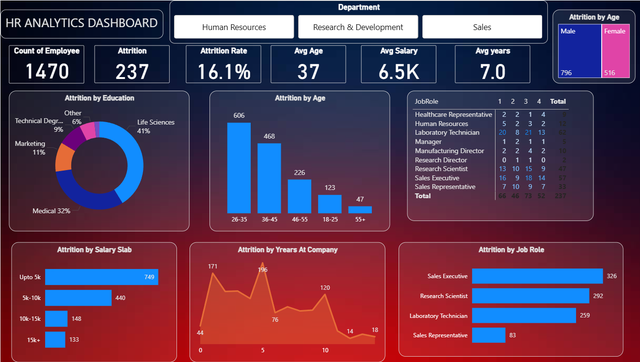

Layout of this report page (visuals, bound fields, positions):
{"tool":"powerbi","page":{"name":"Page 1","canvas":[1280,720],"ordinal":1},"visuals":[{"type":"card","title":"Count of Employee","fields":{"Values":["CountNonNull(HR_Analytics.EmpID)"]},"box":[16.5,89.2,149.6,75.5],"z":0},{"type":"card","title":"Attrition","fields":{"Values":["Sum(HR_Analytics.AttritionCount)"]},"box":[186.6,89.2,149.6,75.5],"z":1},{"type":"card","title":"Attrition Rate","fields":{"Values":["HR_Analytics.AttritionRate"]},"box":[369.1,89.2,149.6,75.5],"z":2},{"type":"card","title":"Avg Age","fields":{"Values":["Avg(HR_Analytics.Age)"]},"box":[537.9,89.2,149.6,75.5],"z":3},{"type":"card","title":"Avg Salary","fields":{"Values":["Avg(HR_Analytics.MonthlyIncome)"]},"box":[717.7,89.2,149.6,75.5],"z":4},{"type":"card","title":"Avg years","fields":{"Values":["Avg(HR_Analytics.YearsAtCompany)"]},"box":[904.3,89.2,149.6,75.5],"z":5},{"type":"donutChart","title":"Attrition by Education","fields":{"Category":["HR_Analytics.EducationField"],"Y":["CountNonNull(HR_Analytics.Attrition)"]},"box":[16.9,179.8,359.5,279.9],"z":6},{"type":"columnChart","title":"Attrition by Age","fields":{"Category":["HR_Analytics.AgeGroup"],"Y":["CountNonNull(HR_Analytics.Attrition)"]},"box":[416.2,179.8,359.5,279.9],"z":7},{"type":"pivotTable","fields":{"Rows":["HR_Analytics.JobRole"],"Columns":["HR_Analytics.JobSatisfaction"],"Values":["Sum(HR_Analytics.AttritionCount)"]},"box":[809.5,179.8,371.6,259.4],"z":8},{"type":"barChart","title":"Attrition by Salary Slab","fields":{"Category":["HR_Analytics.SalarySlab"],"Y":["CountNonNull(HR_Analytics.Attrition)"]},"box":[21.7,481.4,329.4,238.9],"z":9},{"type":"barChart","title":"Attrition by Job Role","fields":{"Category":["HR_Analytics.JobRole"],"Y":["CountNonNull(HR_Analytics.Attrition)"]},"box":[792.6,481.4,447.6,228],"z":10},{"type":"areaChart","title":"Attrition by Yrears At Company","fields":{"Category":["HR_Analytics.YearsAtCompany"],"Y":["CountNonNull(HR_Analytics.Attrition)"]},"box":[376.4,481.4,389.7,238.9],"z":11},{"type":"treemap","title":"Attrition by Age","fields":{"Group":["HR_Analytics.Gender"],"Values":["CountNonNull(HR_Analytics.Attrition)"]},"box":[1099.1,17.8,164.7,146.8],"z":12},{"type":"advancedSlicerVisual","fields":{"Values":["HR_Analytics.Department"]},"box":[336.6,0,752.8,85.7],"z":13},{"type":"textbox","box":[0,17.8,323.8,57.6],"z":14}]}

Visuals, with their boxes in screenshot pixels (x1, y1, x2, y2), scaled from the page's 1280x720 canvas onto the 640x362 screenshot:
"Count of Employee" card: select_region(8, 45, 83, 83)
"Attrition" card: select_region(93, 45, 168, 83)
"Attrition Rate" card: select_region(185, 45, 259, 83)
"Avg Age" card: select_region(269, 45, 344, 83)
"Avg Salary" card: select_region(359, 45, 434, 83)
"Avg years" card: select_region(452, 45, 527, 83)
"Attrition by Education" donutChart: select_region(8, 90, 188, 231)
"Attrition by Age" columnChart: select_region(208, 90, 388, 231)
pivotTable - HR_Analytics.JobRole x HR_Analytics.JobSatisfaction: select_region(405, 90, 591, 221)
"Attrition by Salary Slab" barChart: select_region(11, 242, 176, 361)
"Attrition by Job Role" barChart: select_region(396, 242, 620, 357)
"Attrition by Yrears At Company" areaChart: select_region(188, 242, 383, 361)
"Attrition by Age" treemap: select_region(550, 9, 632, 83)
advancedSlicerVisual - HR_Analytics.Department: select_region(168, 0, 545, 43)
textbox: select_region(0, 9, 162, 38)
